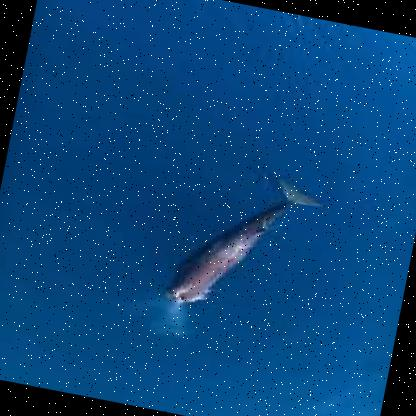sperm_whale: (68, 126, 348, 362)
